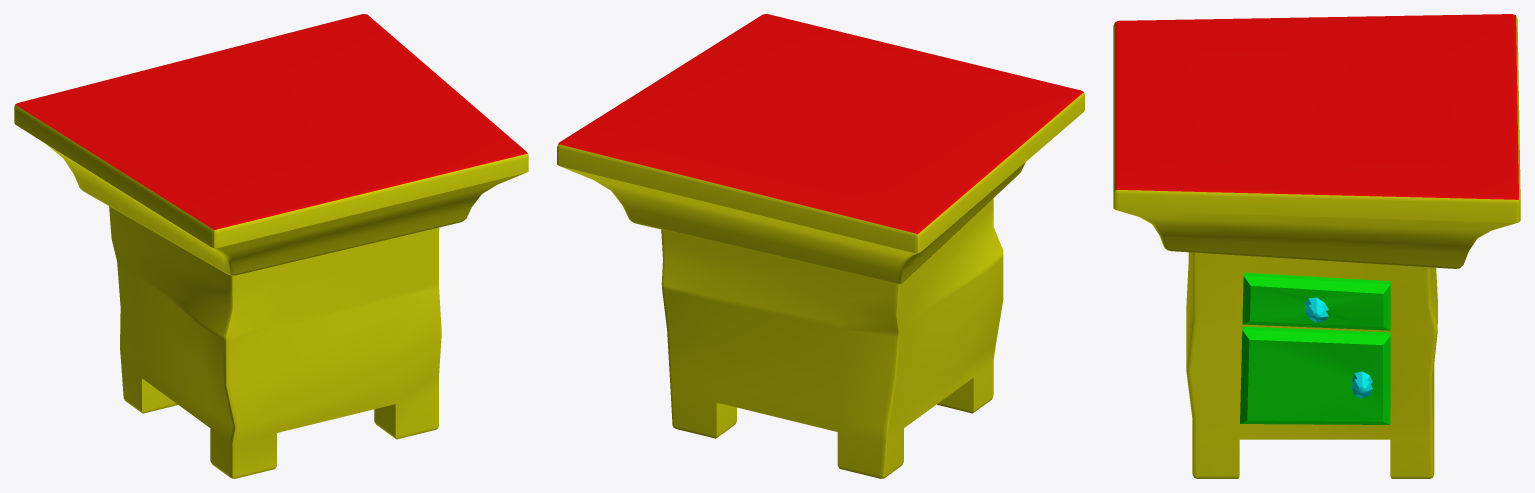
The model's file is Nightstand.fbx.
3 views of the same model, side by side, from view 1: azimuth 30°, elevation 25°; view 2: azimuth 150°, elevation 25°; view 3: azimuth 270°, elevation 25° (orthographic). The views are drawn at different scales.
Visible parts, largest first — view 1: Nightstand; view 2: Nightstand; view 3: Nightstand.
Part boxes in pixels (x1=…): Nightstand: x1=14, y1=14, x2=528, y2=478; Nightstand: x1=557, y1=14, x2=1084, y2=478; Nightstand: x1=1113, y1=14, x2=1520, y2=478.
Size of the model in its own units: 37.27 by 29.29 by 33.59.
